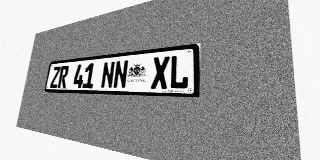1: (82, 63, 96, 88)
4: (72, 64, 85, 88)
L: (169, 54, 189, 89)
N: (113, 60, 129, 89), (100, 61, 115, 88)
R: (57, 65, 69, 88)
X: (151, 56, 170, 89)
Z: (50, 66, 61, 88)
